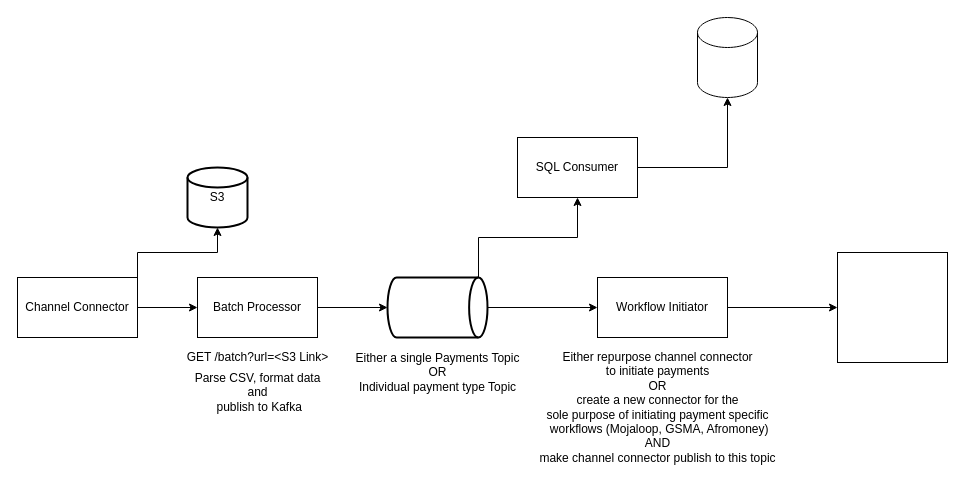
This 965x485 diagram has some shape labels left out. The centre of each missing label's shape, as x and y in pixels:
"Payments Topic" goes at point 437,307.
"SQL" goes at point 727,57.
"Zeebe" goes at point 892,307.
